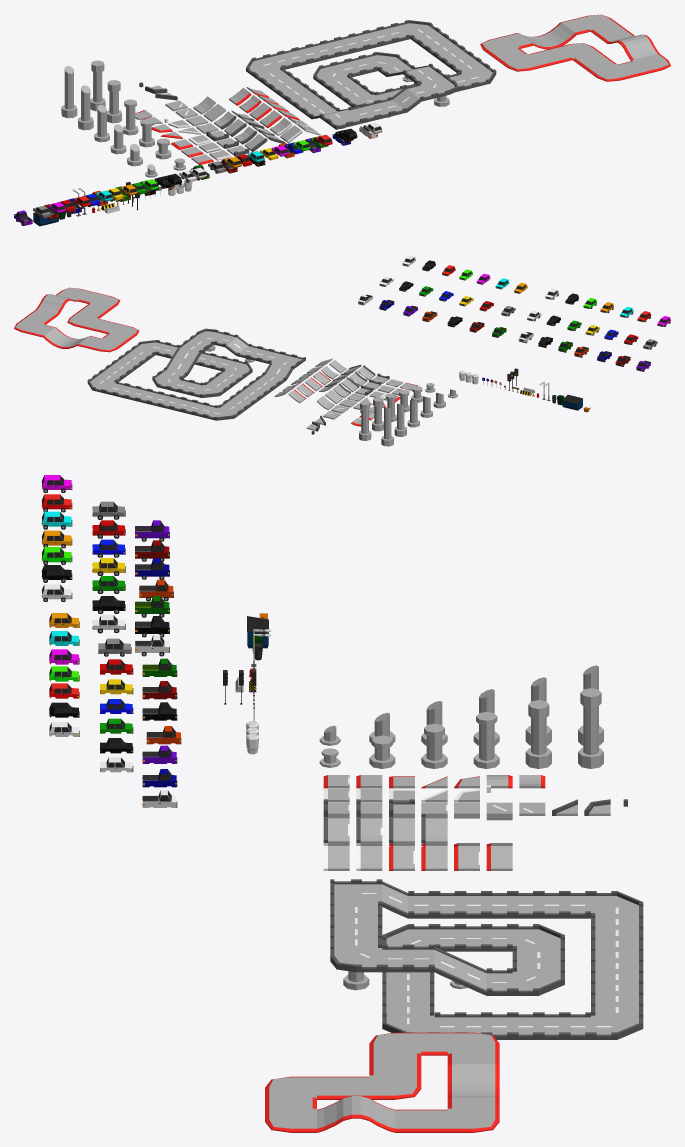
Rendered from Low Poly Cars and Roads.fbx.
3 views of the same model, one above another, from view 1: azimuth 30°, elevation 25°; view 2: azimuth 150°, elevation 25°; view 3: azimuth 270°, elevation 25° (orthographic). The views are drawn at different scales.
Visible parts, largest first — view 1: Road Example 1, Racing Track Example 1, Concrete Support Pillar Slope Size 6, Concrete Support Pillar Size 6, Concrete Support Pillar Size 5, Concrete Support Pillar Slope Size 5, Concrete Support Pillar Size 4, Concrete Support Pillar Slope Size 4, Concrete Support Pillar Size 3, Concrete Support Pillar Slope Size 3; view 2: Road Example 1, Racing Track Example 1, Concrete Support Pillar Size 6, Concrete Support Pillar Slope Size 6, Concrete Support Pillar Size 5, Concrete Support Pillar Slope Size 5; view 3: Road Example 1, Racing Track Example 1, Concrete Support Pillar Size 6, Concrete Support Pillar Size 5, Concrete Support Pillar Size 4.
Boxes of the visible parts, x1,y1,x2,y2 form: Road Example 1: [246, 20, 496, 129]; Racing Track Example 1: [480, 14, 670, 81]; Concrete Support Pillar Slope Size 6: [61, 66, 77, 118]; Concrete Support Pillar Size 6: [90, 60, 105, 111]; Concrete Support Pillar Size 5: [107, 80, 121, 123]; Concrete Support Pillar Slope Size 5: [78, 85, 93, 130]; Concrete Support Pillar Size 4: [123, 99, 138, 135]; Concrete Support Pillar Slope Size 4: [94, 105, 109, 142]; Concrete Support Pillar Size 3: [139, 119, 154, 147]; Concrete Support Pillar Slope Size 3: [110, 124, 126, 154]; Road Example 1: [87, 328, 305, 420]; Racing Track Example 1: [14, 287, 139, 352]; Concrete Support Pillar Size 6: [359, 400, 371, 440]; Concrete Support Pillar Slope Size 6: [381, 407, 393, 446]; Concrete Support Pillar Size 5: [372, 397, 383, 431]; Concrete Support Pillar Slope Size 5: [394, 403, 406, 436]; Road Example 1: [330, 879, 643, 1039]; Racing Track Example 1: [265, 1032, 499, 1132]; Concrete Support Pillar Size 6: [578, 688, 603, 768]; Concrete Support Pillar Size 5: [525, 700, 551, 768]; Concrete Support Pillar Size 4: [473, 712, 499, 768].
Bounding box in the file's own units: 195 × 23.32 × 92.22.
